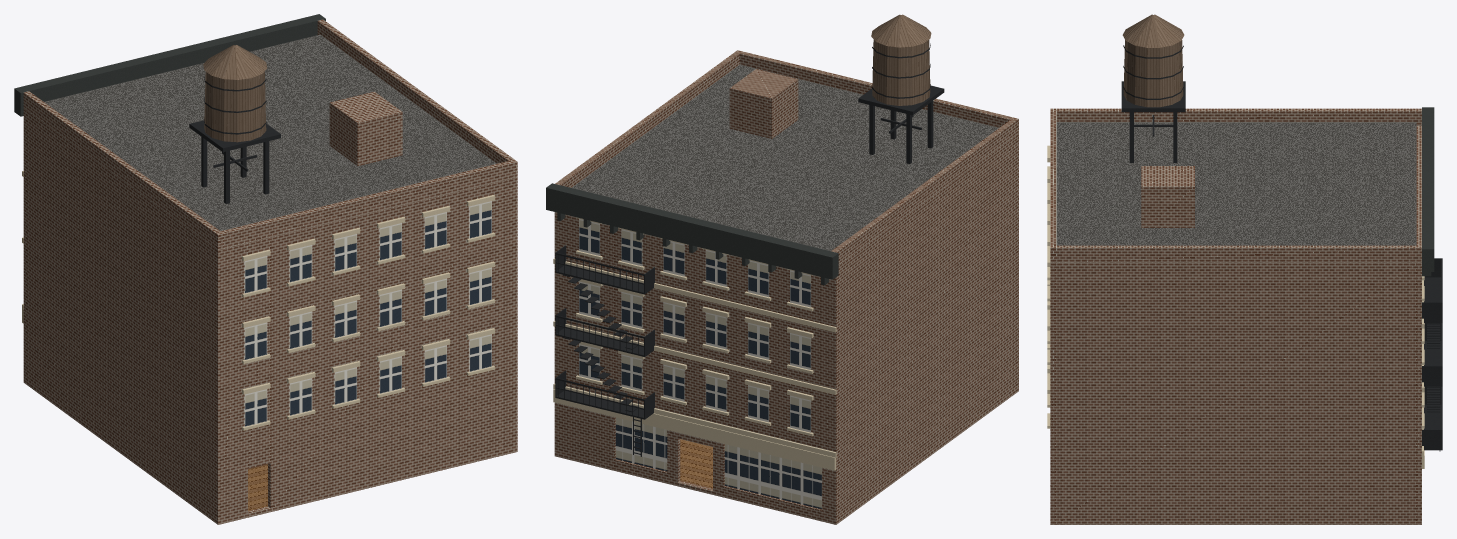
The model's file is walkup_brown_shop.glb.
The picture shows the model from 3 angles, left to right: view 1: azimuth 30°, elevation 25°; view 2: azimuth 150°, elevation 25°; view 3: azimuth 270°, elevation 25°; orthographic projection. The views are drawn at different scales.
Visible parts, largest first — view 1: walkup_brown_shop; view 2: walkup_brown_shop; view 3: walkup_brown_shop.
Boxes of the visible parts, x1=… form: walkup_brown_shop: x1=14, y1=14, x2=517, y2=524; walkup_brown_shop: x1=546, y1=14, x2=1018, y2=524; walkup_brown_shop: x1=1047, y1=14, x2=1442, y2=524.
Size of the model in its own units: 16.3 by 21.6 by 19.14.
13 materials, 13 textured.
